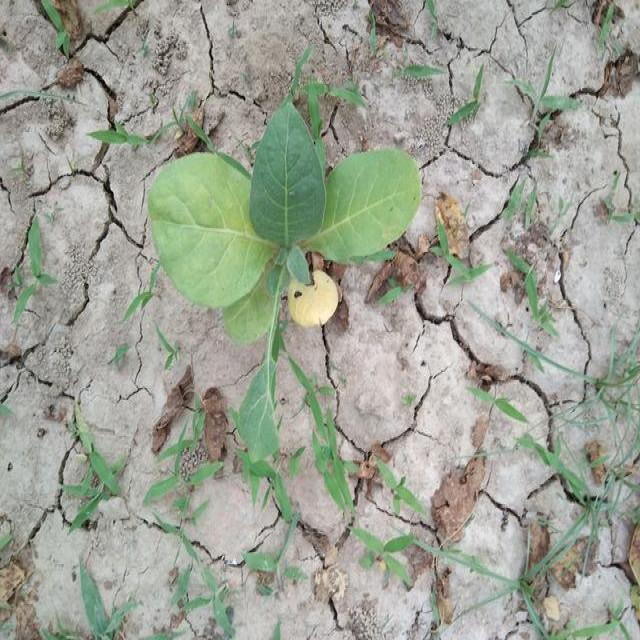crop: (145, 91, 431, 330)
